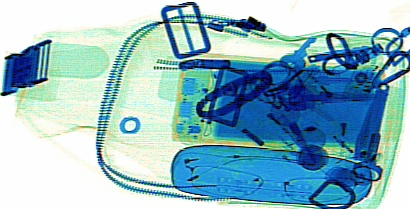lighter: (282, 49, 354, 118), (250, 97, 315, 157), (329, 95, 359, 164)
